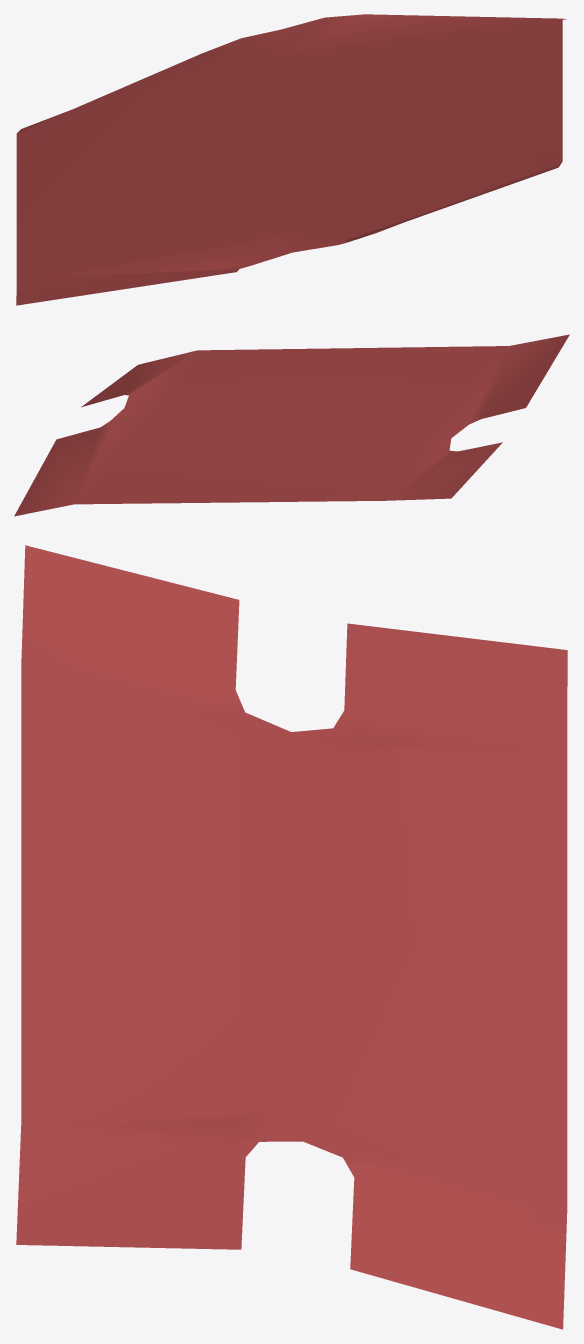
File: Ticket.fbx
The picture shows the model from 3 angles, top to bottom: view 1: azimuth 90°, elevation 25°; view 2: azimuth 150°, elevation 25°; view 3: azimuth 270°, elevation 25°; orthographic projection. The views are drawn at different scales.
Parts seen in each view (by area): view 1: Ticket; view 2: Ticket; view 3: Ticket.
Part boxes in pixels (x1,y1,x2,y2): Ticket: (16, 14, 566, 305); Ticket: (14, 334, 569, 516); Ticket: (16, 545, 567, 1329).
Size of the model in its own units: 245 by 96.66 by 129.
